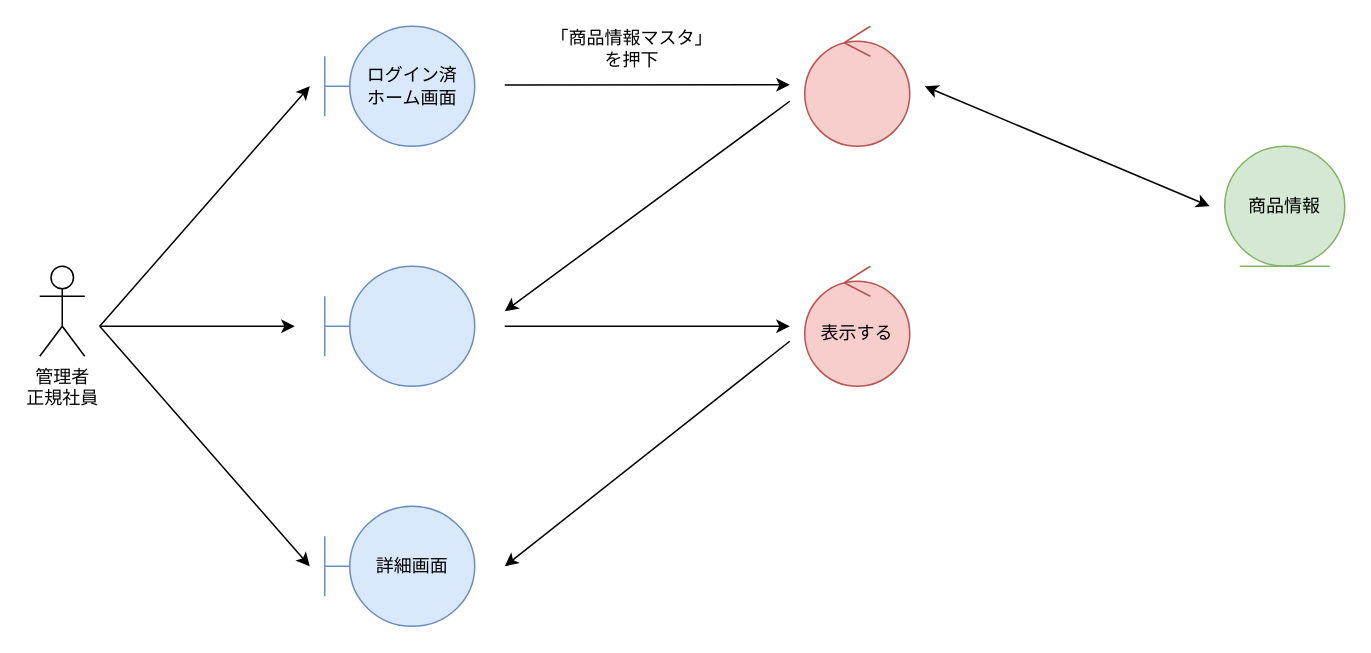
Some shapes in this 1371 by 653 pixel diagram are drawn without their labels. Here are the shapes that lost their labels. From the top down, the centre of each, then its label:
At pixel 856 85: "商品情報 を取得する".
At pixel 399 325: "ベンチマーク 情報一覧画面".
